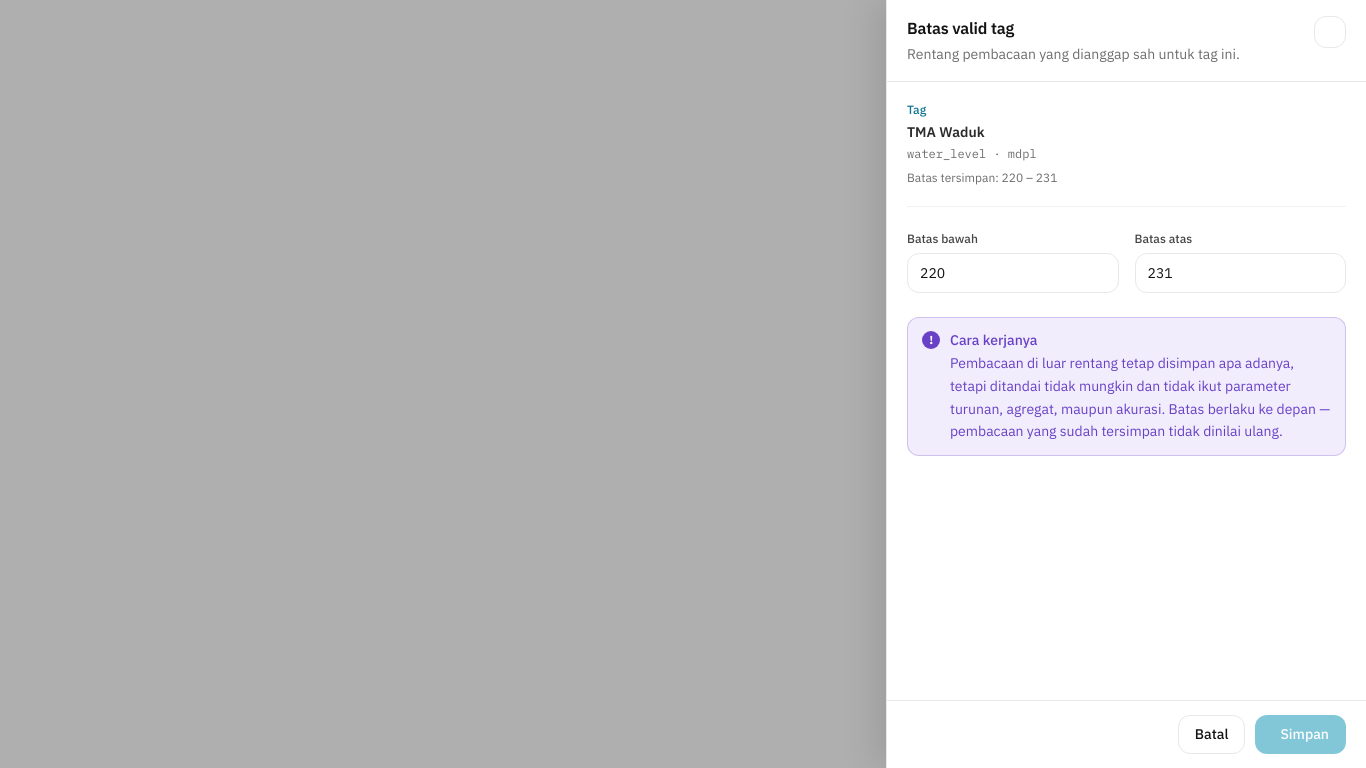
Test: sheet batas valid tag › menolak batas bawah yang tidak lebih kecil dari batas atas
The image size is (1366, 768).
Expected: the number field labelled "Batas bawah" holds "220", [907,253,1118,293]
Replace the text in the number field labelled "Batas atas" with "200": (1240, 273) [1134,253,1346,293]
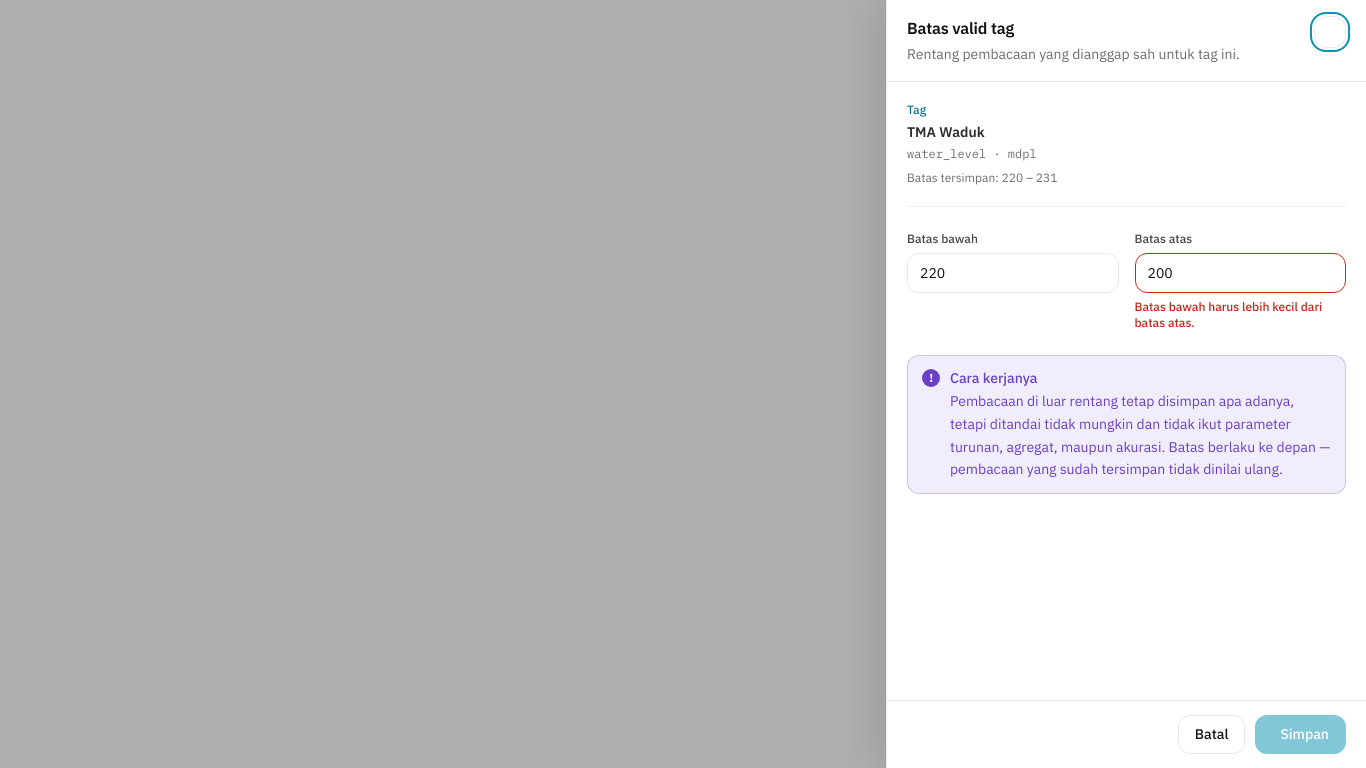
Expected: the button "Simpan" is disabled, [1256,715,1346,754]
Result: the text "Batas bawah harus lebih kecil dari batas atas." is shown at [1134,299,1346,331]
